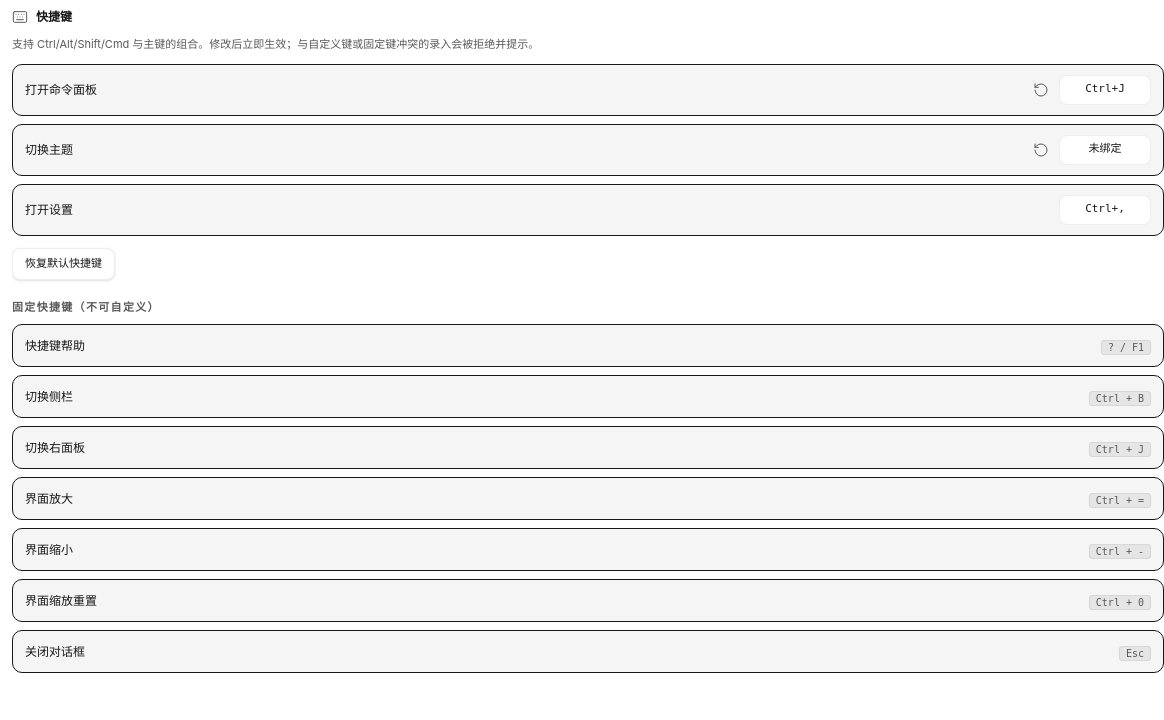
Test: ShortcutsSection › V7 一键全部恢复默认：confirm 放行后写回默认值
Click the button "恢复默认快捷键". click: (64, 264)
box: [12,248,115,280]
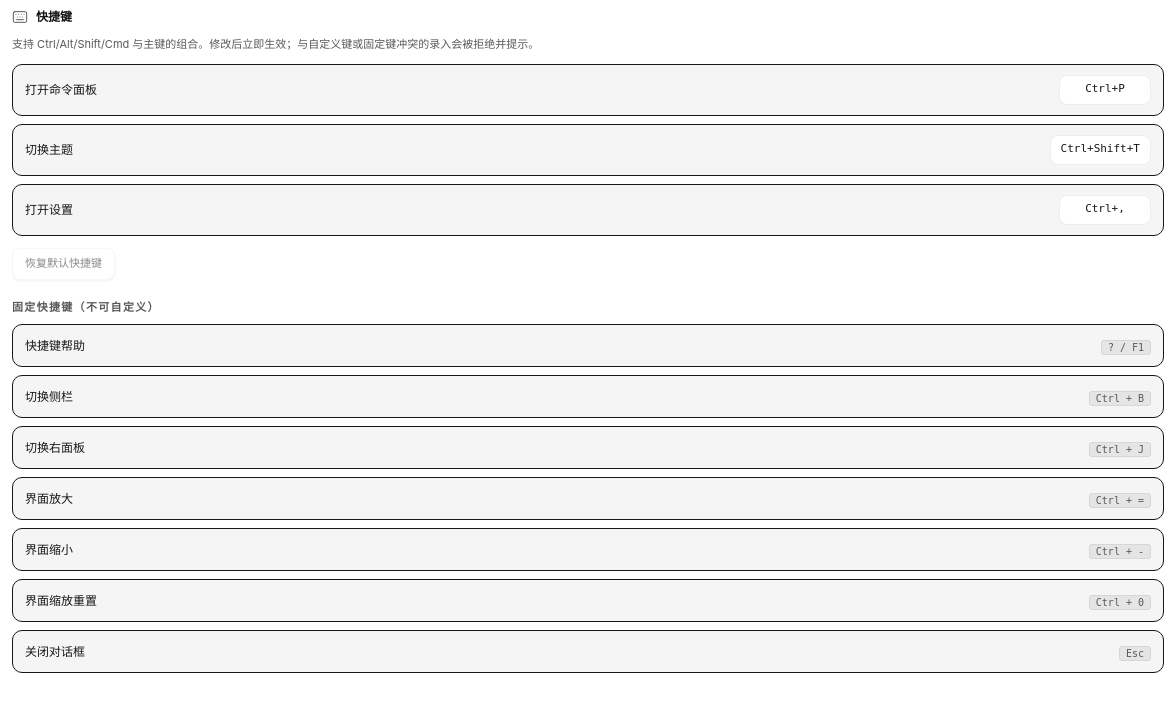
Expected: the button "Ctrl+P" is shown, [1059,75,1151,105]
Expected: the button "Ctrl+Shift+T" is shown, [1050,135,1151,165]
